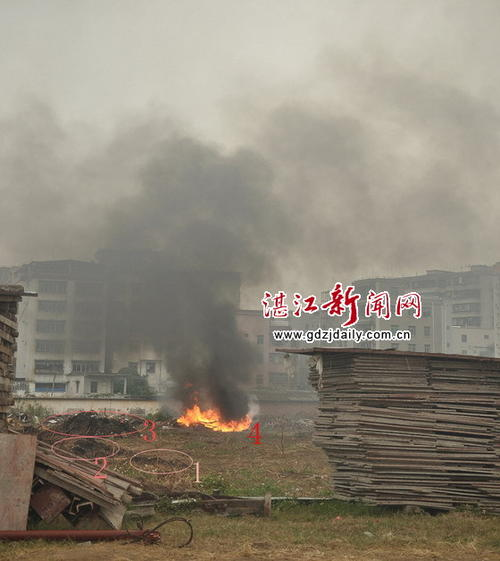fire: (168, 395, 281, 440)
smoke: (88, 122, 286, 356)
